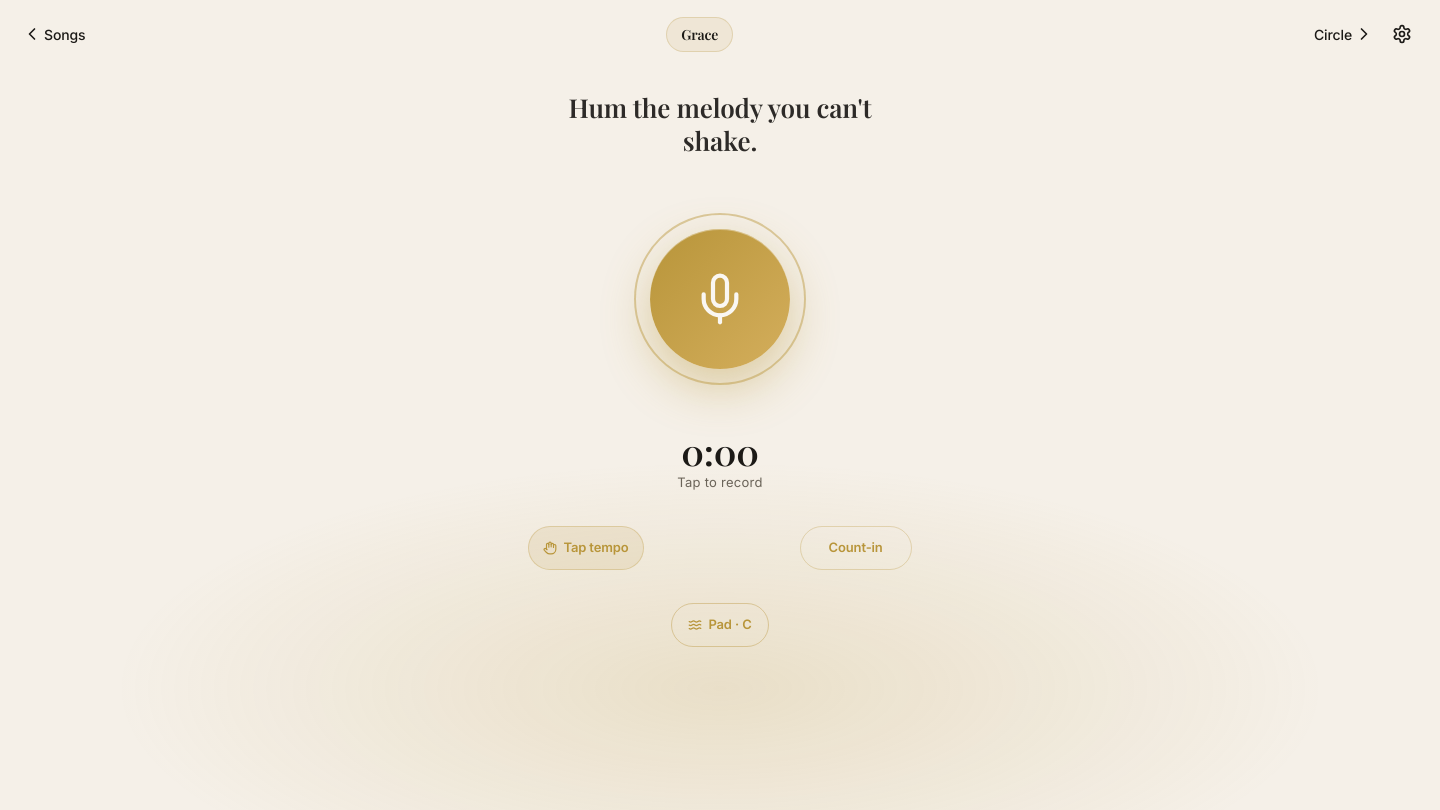
it: CaptureScene lifecycle with the real hooks › keeps a live recording alive across re-renders (duration ticker, hook identity churn)
Later steps or results of the test are not shown.
Step 1. Click the button named "Start recording" → (720,299), box x1=650 y1=229 x2=790 y2=369
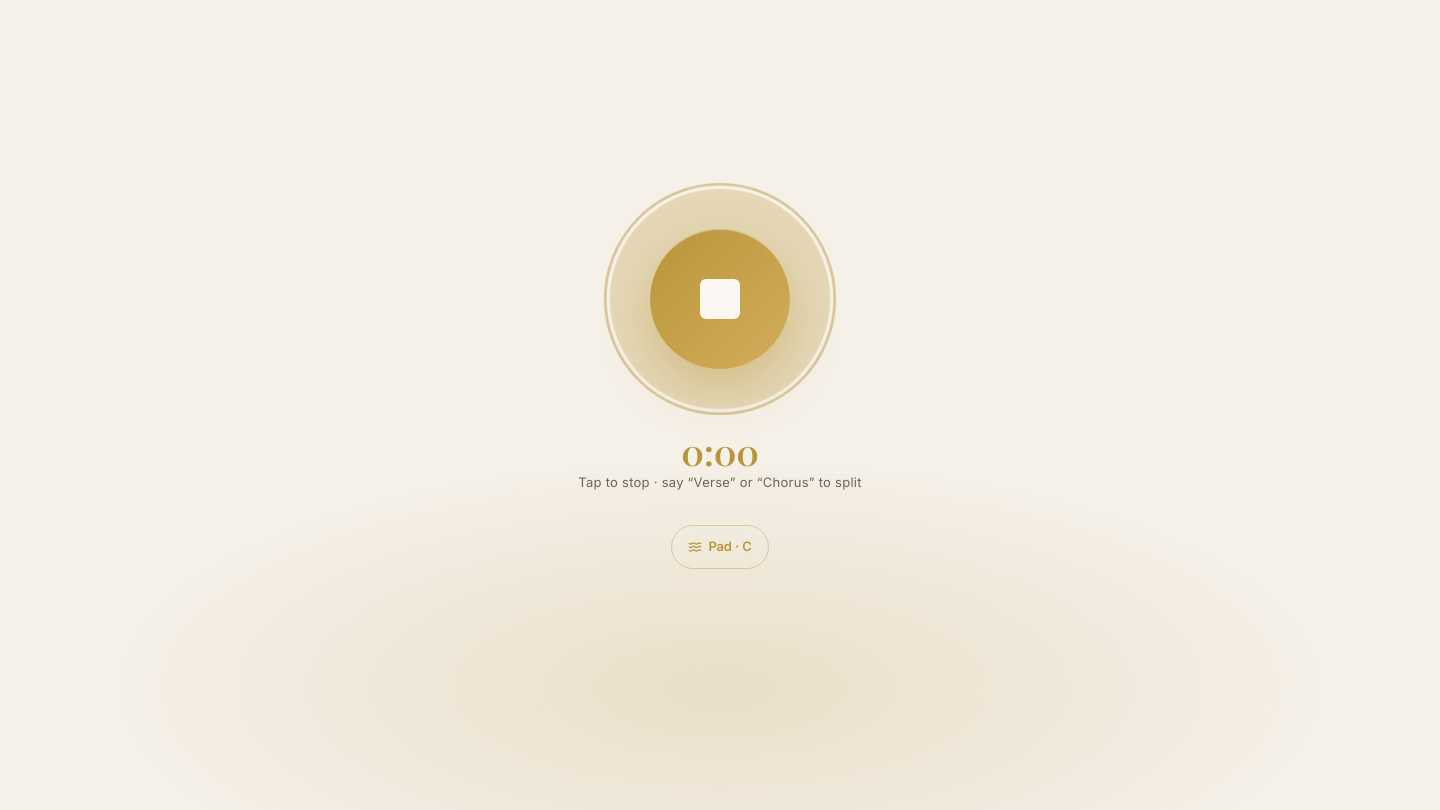
Expected: the button named "Stop recording" is shown, x1=650 y1=229 x2=790 y2=369
